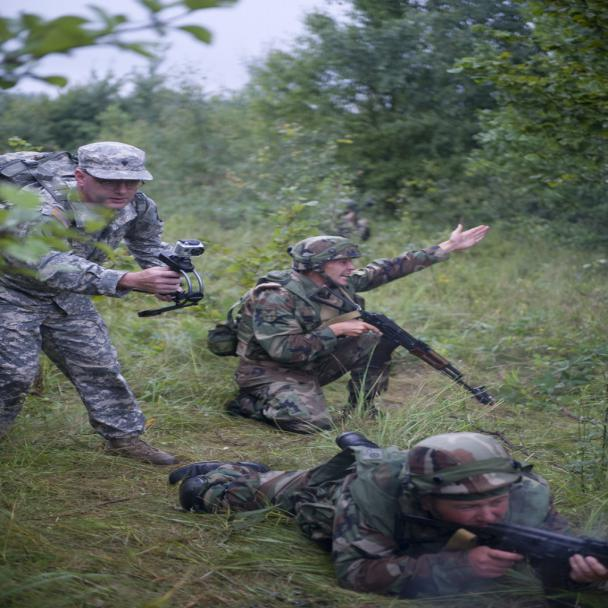Gun: (317, 283, 498, 401), (460, 516, 607, 559)
Hand: (434, 220, 501, 265), (113, 263, 194, 300), (457, 548, 518, 579), (561, 552, 607, 590), (324, 316, 386, 344)
